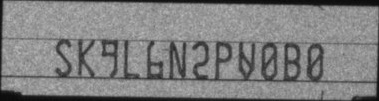0: (261, 40, 278, 82), (307, 41, 324, 82)
2: (192, 40, 210, 81)
6: (146, 40, 165, 80)
9: (100, 39, 119, 79)
B: (282, 41, 302, 83)
K: (77, 38, 96, 78)
L: (124, 39, 141, 79)
N: (169, 39, 188, 81)
P: (214, 40, 232, 80)
S: (54, 38, 73, 78)
V: (237, 41, 256, 82)
